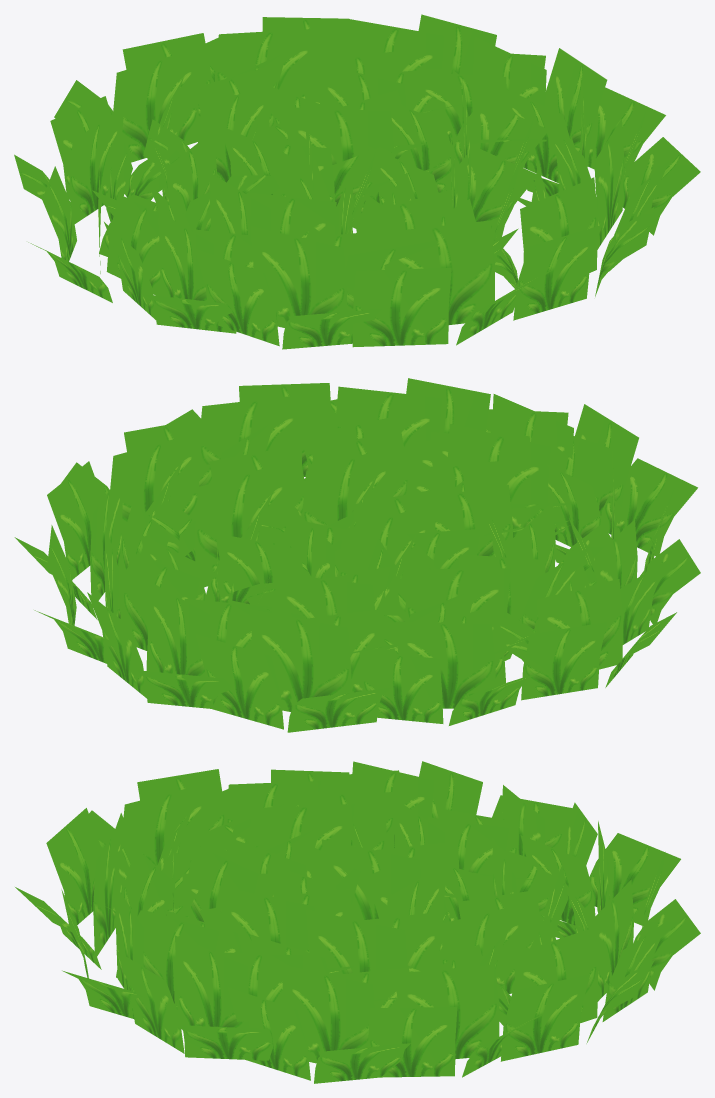
The model's file is grass_flowerBed_circular.fbx.
3 views of the same model, one above another, from view 1: azimuth 30°, elevation 25°; view 2: azimuth 150°, elevation 25°; view 3: azimuth 270°, elevation 25° (orthographic). The views are drawn at different scales.
Visible parts, largest first — view 1: grass_flowerBed_circular; view 2: grass_flowerBed_circular; view 3: grass_flowerBed_circular.
Boxes of the visible parts, x1,y1,x2,y2 form: grass_flowerBed_circular: (14,14,700,349); grass_flowerBed_circular: (14,378,700,732); grass_flowerBed_circular: (15,761,700,1083).
Size of the model in its own units: 302 by 51.44 by 306.
